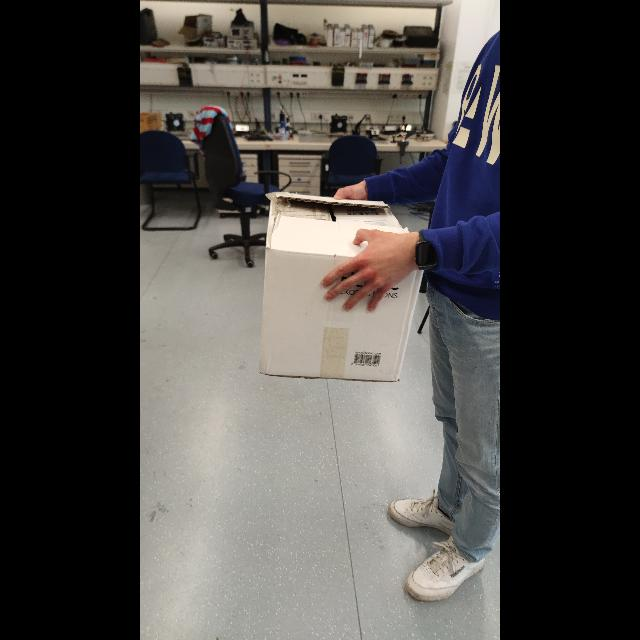cardboard_box: (245, 178, 428, 392)
